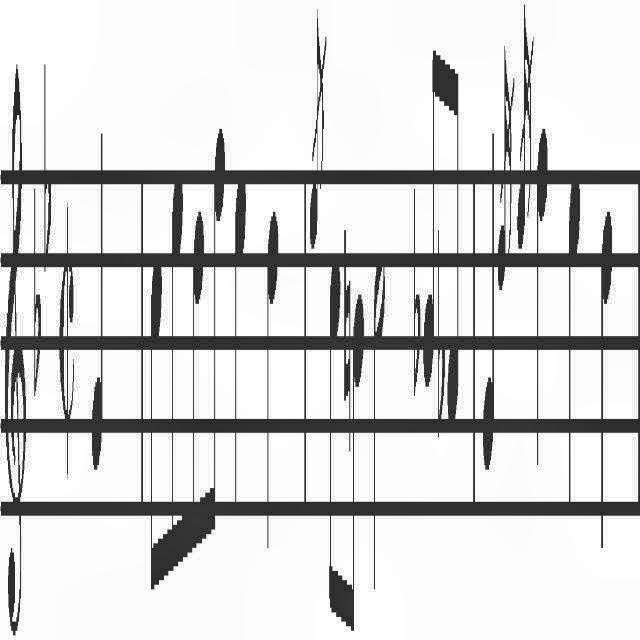Bass-clef: (4, 60, 26, 640)
Bemol: (412, 181, 420, 411), (44, 46, 52, 270), (32, 183, 40, 404), (438, 227, 446, 439)
Eighth-note: (206, 127, 226, 566), (167, 166, 186, 574), (188, 196, 205, 584), (446, 46, 462, 434), (345, 291, 363, 629), (422, 37, 438, 396), (324, 248, 340, 602), (150, 243, 162, 602)
Half-note: (372, 242, 386, 610)
Quarter-note: (266, 202, 282, 556), (600, 193, 614, 562), (233, 163, 247, 525), (535, 117, 549, 479), (90, 126, 104, 476), (568, 169, 582, 519), (484, 126, 496, 494)
